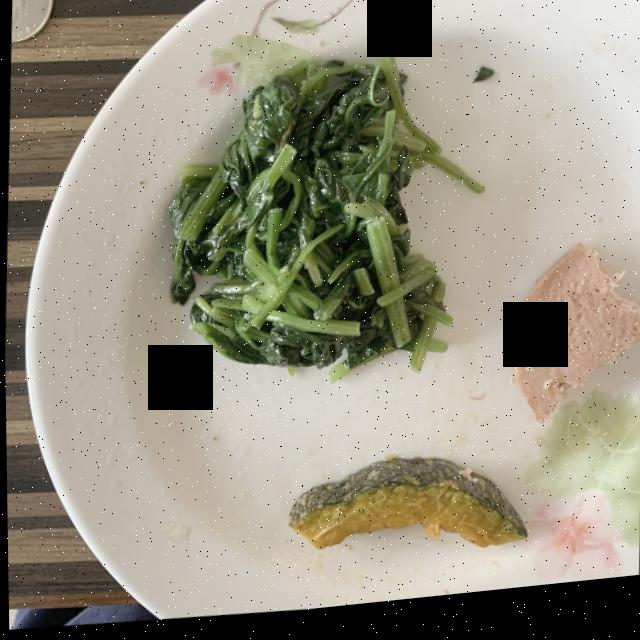Spam: (508, 256, 640, 434)
coin: (10, 0, 51, 42)
mustard greens: (168, 62, 481, 378)
pumpkin: (286, 466, 524, 557)
